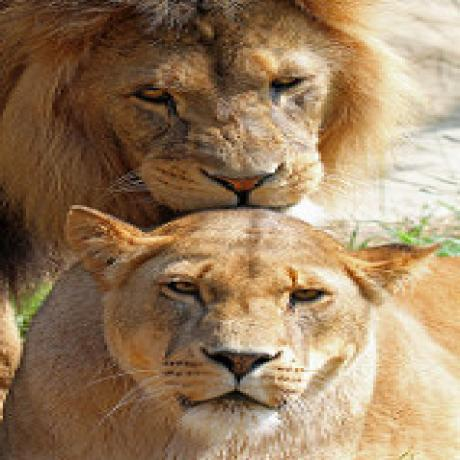Lion: (0, 205, 460, 460), (0, 0, 460, 212)
